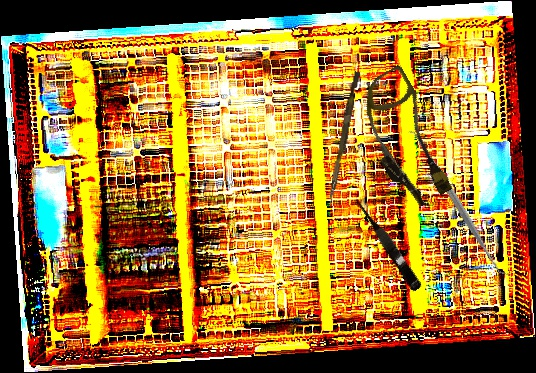Cannula: (343, 64, 467, 213)
Micro Scissor: (351, 193, 425, 293)
Pusher: (327, 70, 361, 207)
Spatula Surgical: (405, 124, 511, 283)
